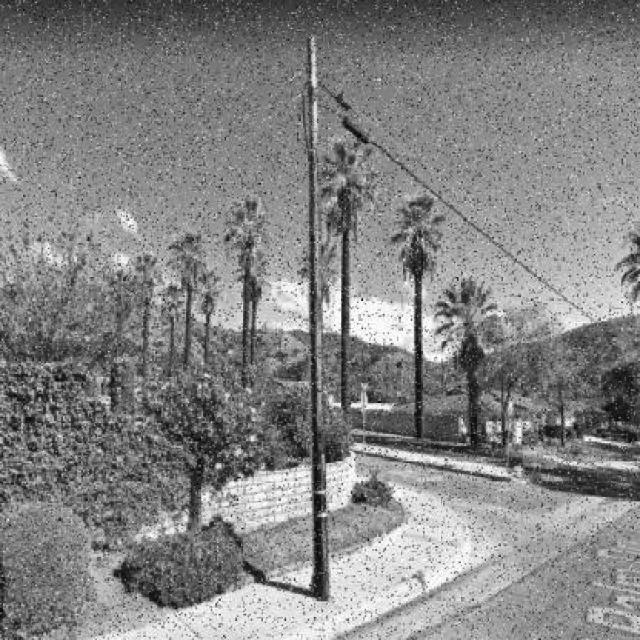pole: (306, 35, 331, 602)
wire: (318, 96, 637, 355)
